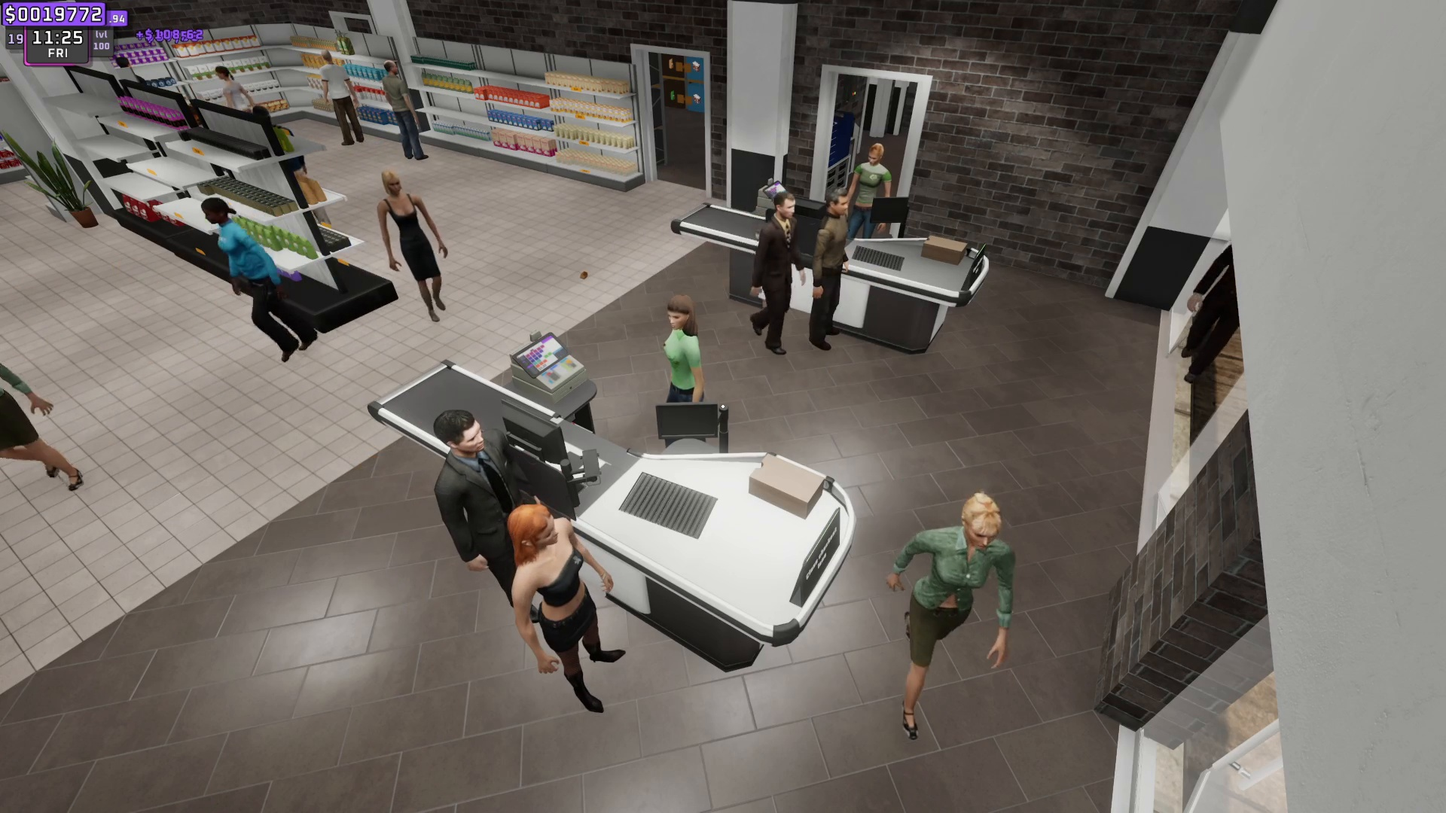Client: (904, 491, 1033, 742), (511, 503, 627, 711), (438, 419, 551, 606), (821, 202, 872, 364), (754, 194, 794, 352)
Employee: (660, 301, 710, 396), (851, 141, 889, 220)
